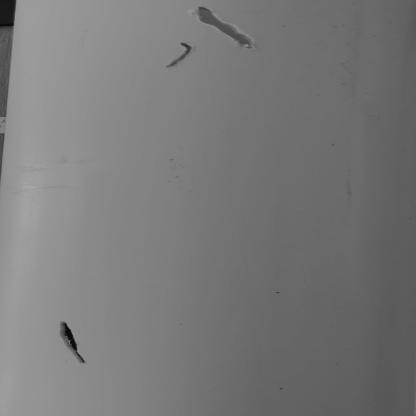fengxi: (194, 6, 256, 51), (165, 41, 196, 70)
kongdong: (56, 320, 87, 365)
